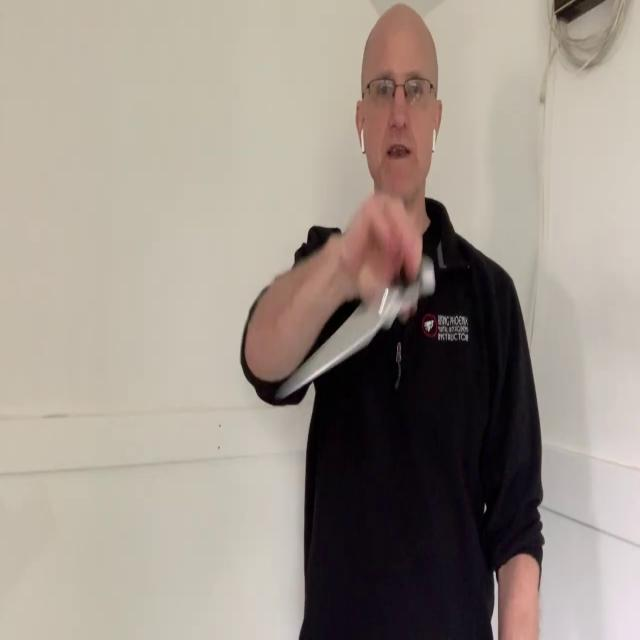Knife_Handle: (276, 194, 434, 398)
